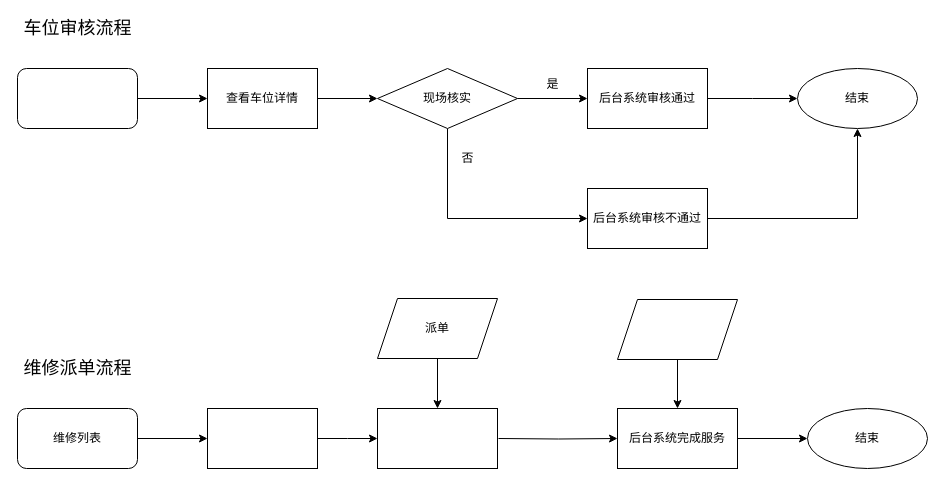
Image size: 945x486. Some labels were removed from this diagram. Each missing label, with the centre of its shape:
后台系统开启服务: [437,438]
服务完成: [677,329]
查看维修详情: [262,438]
车位列表: [77,98]
